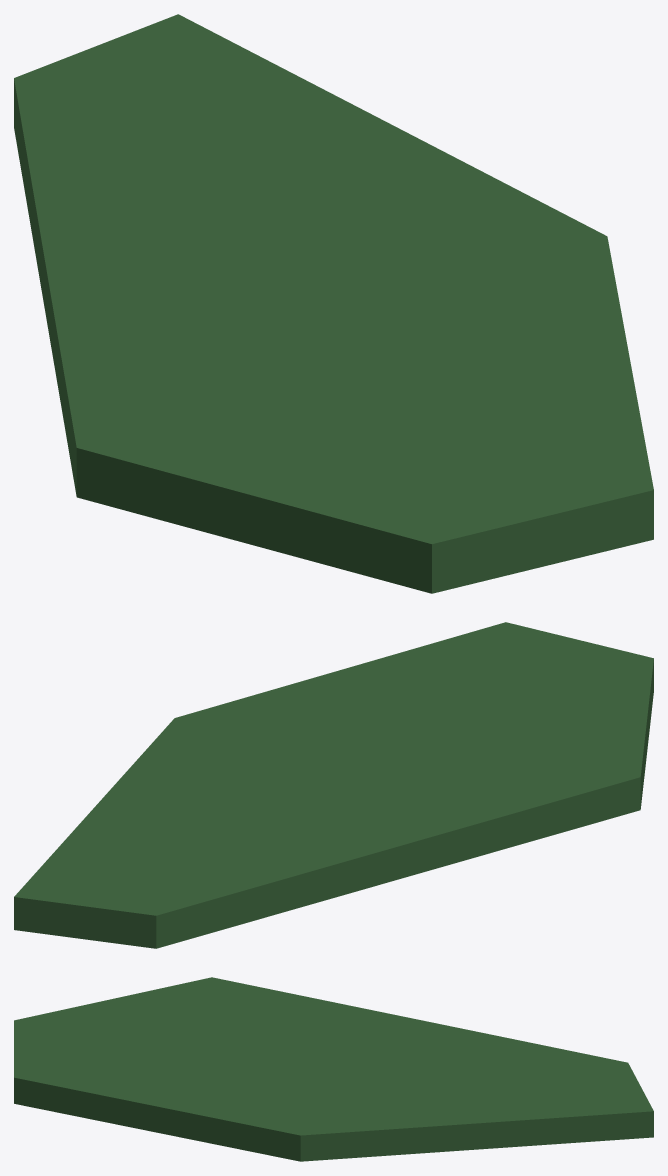
Rendered from x_proval_00_129_1_rmstrd.fbx.
3 renders of one model, top to bottom at view 1: azimuth 30°, elevation 25°; view 2: azimuth 150°, elevation 25°; view 3: azimuth 270°, elevation 25°, orthographic. The views are drawn at different scales.
Visible parts, largest first — view 1: x_proval_00_129_1_rmstrd1; view 2: x_proval_00_129_1_rmstrd1; view 3: x_proval_00_129_1_rmstrd1.
Part boxes in pixels (x1,y1,x2,y2): x_proval_00_129_1_rmstrd1: (14, 14, 653, 593); x_proval_00_129_1_rmstrd1: (14, 622, 653, 948); x_proval_00_129_1_rmstrd1: (14, 977, 653, 1161).
Size of the model in its own units: 2.59 by 0.2 by 4.43.
